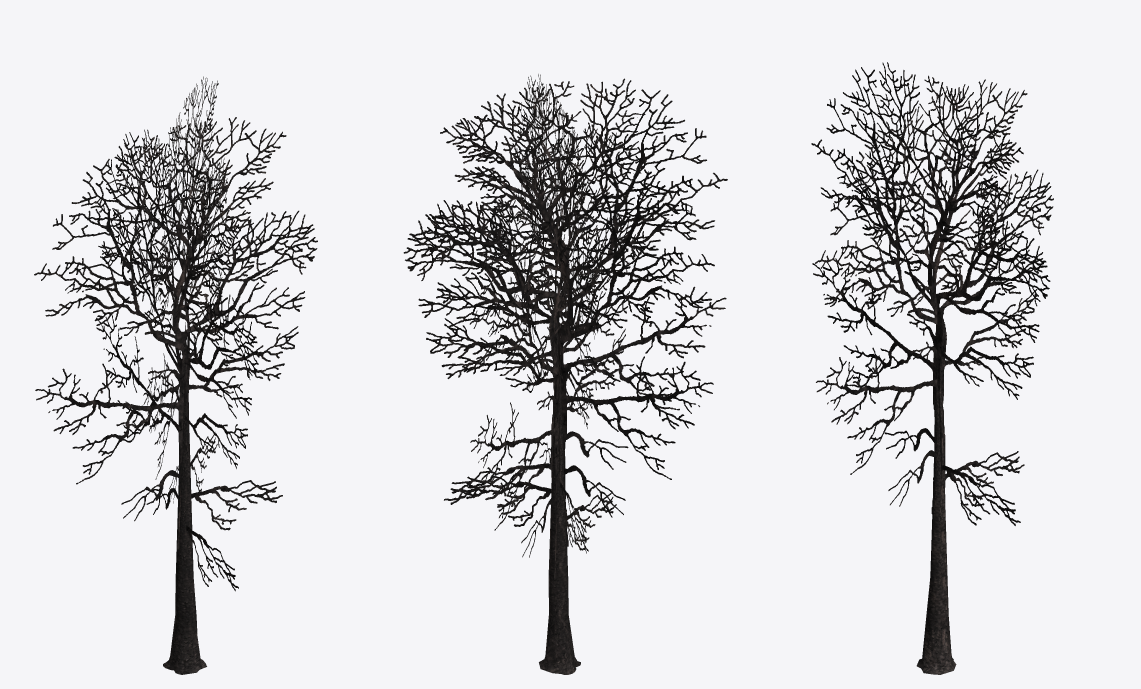
File: dead_tree_rt_2.dae
3 renders of one model, left to right at view 1: azimuth 30°, elevation 25°; view 2: azimuth 150°, elevation 25°; view 3: azimuth 270°, elevation 25°, orthographic. The views are drawn at different scales.
Visible parts, largest first — view 1: dead_tree_rt_2; view 2: dead_tree_rt_2; view 3: dead_tree_rt_2.
Part boxes in pixels (left/top/right/bottom): dead_tree_rt_2: left=34, top=76, right=317, bottom=674; dead_tree_rt_2: left=403, top=74, right=727, bottom=674; dead_tree_rt_2: left=811, top=62, right=1053, bottom=674.
Size of the model in its own units: 1.75 by 1.75 by 3.16.
2 materials, 2 textured.
